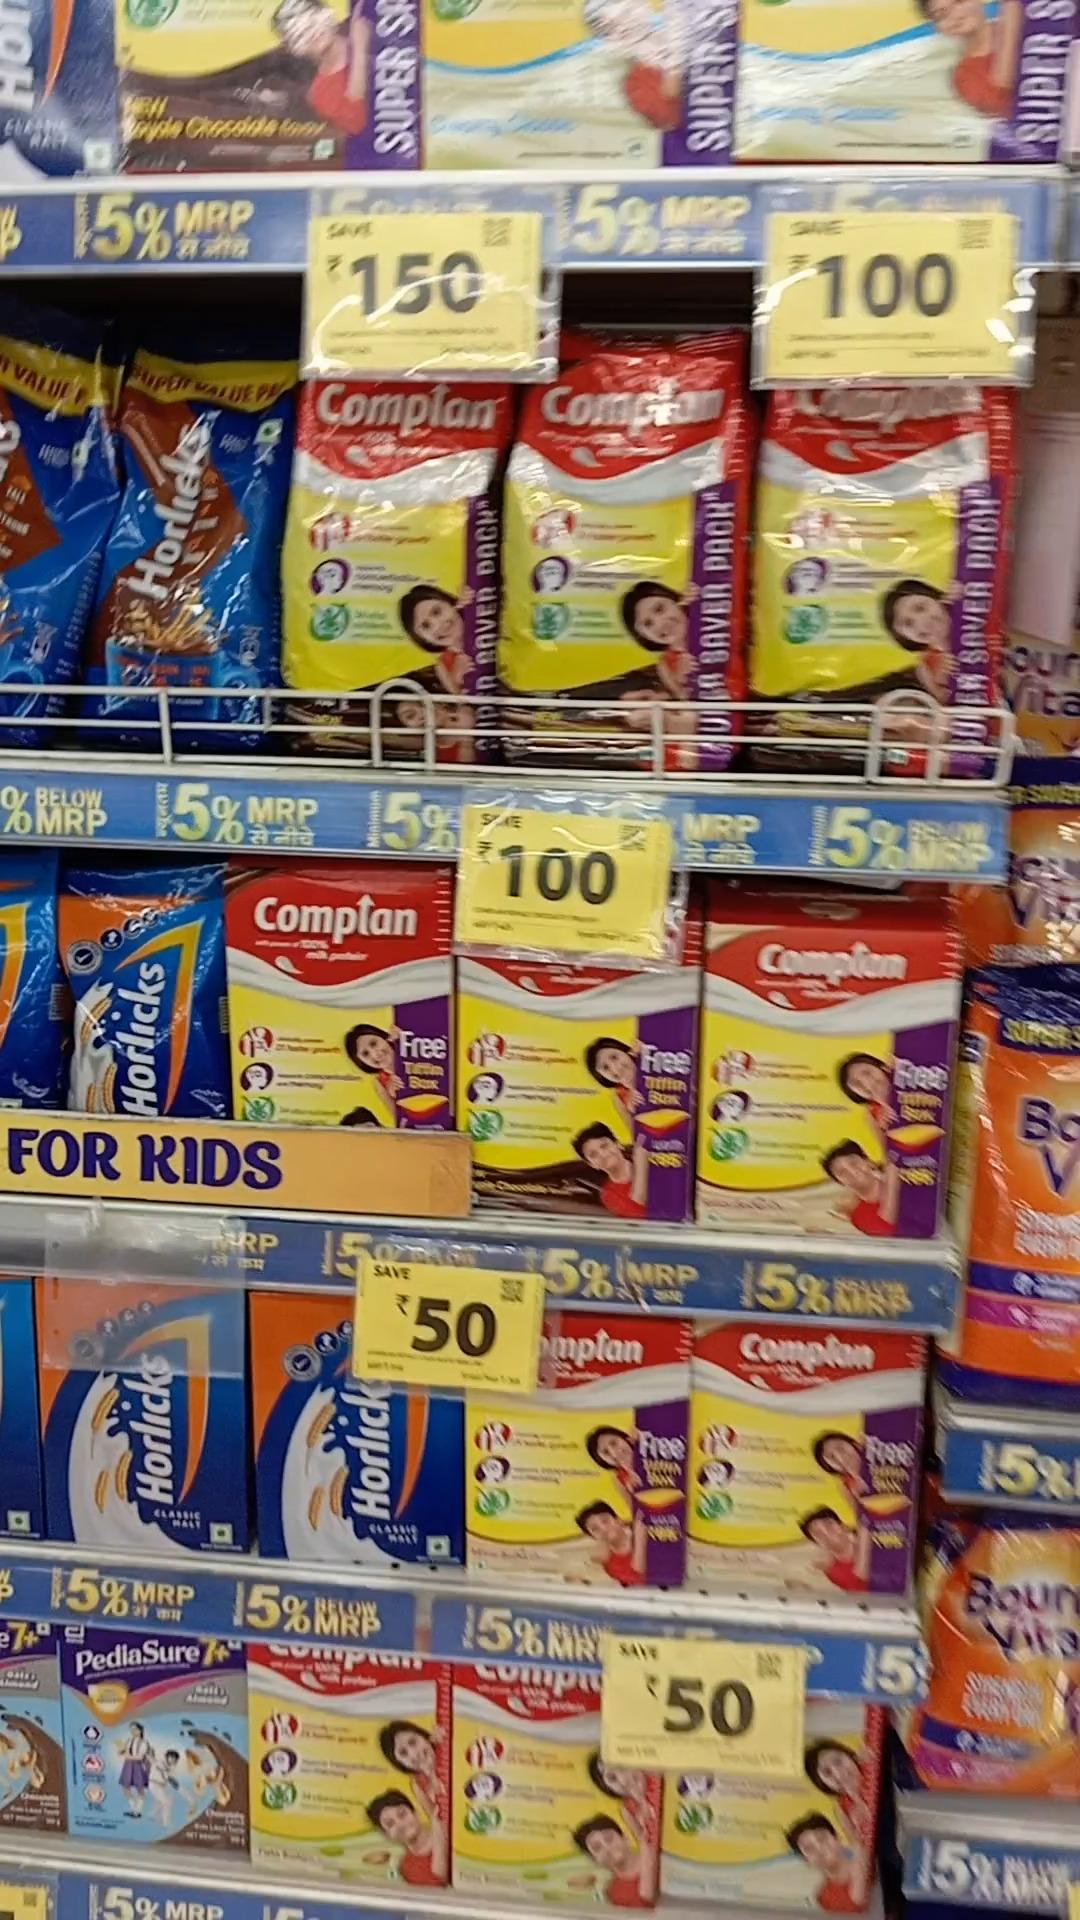COMPLAN_CHOCOLATE_500_GMS_PACK: (452, 890, 705, 1226), (235, 848, 451, 1133)
COMPLAN_KESAR_BADAM_500_GMS_PACK: (702, 911, 955, 1238), (691, 1321, 927, 1614), (459, 1316, 692, 1607)
COMPLAN_PISTA_BADAM_500_GMS_PACK: (253, 1640, 443, 1884)
COMPLAN_RC_POUCH_700_GMS_12: (492, 334, 744, 761), (766, 364, 1018, 774), (289, 360, 491, 756)
HORLICK_CHOCOLATE_750_G_POUCH: (90, 367, 285, 752)
HORLICK_CLASSIC_MALT_500_G_PACK: (33, 1288, 244, 1569), (255, 1291, 450, 1563)
HORLICK_CLASSIC_MALT_750_G_POUCH: (57, 849, 228, 1133)
PEDIASURE_7_PLUS_CHOCOLATE_400_G_PACK: (65, 1630, 248, 1850)
